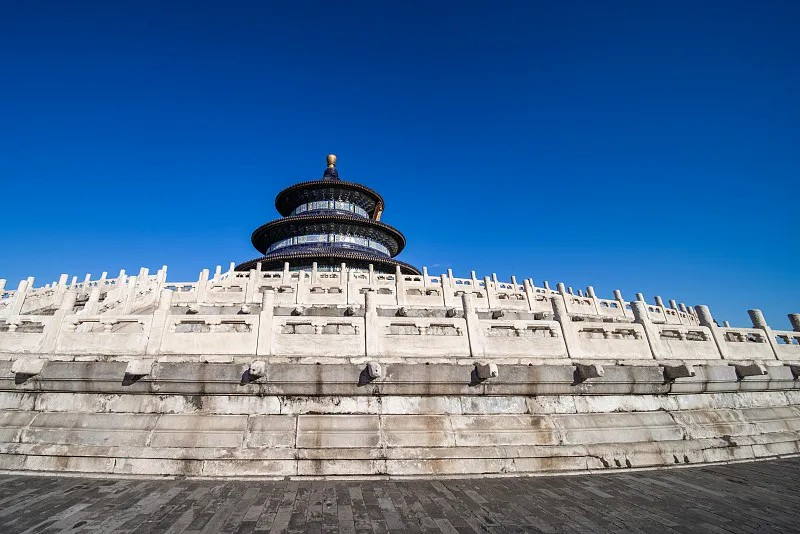Heaven: (233, 152, 423, 275)
